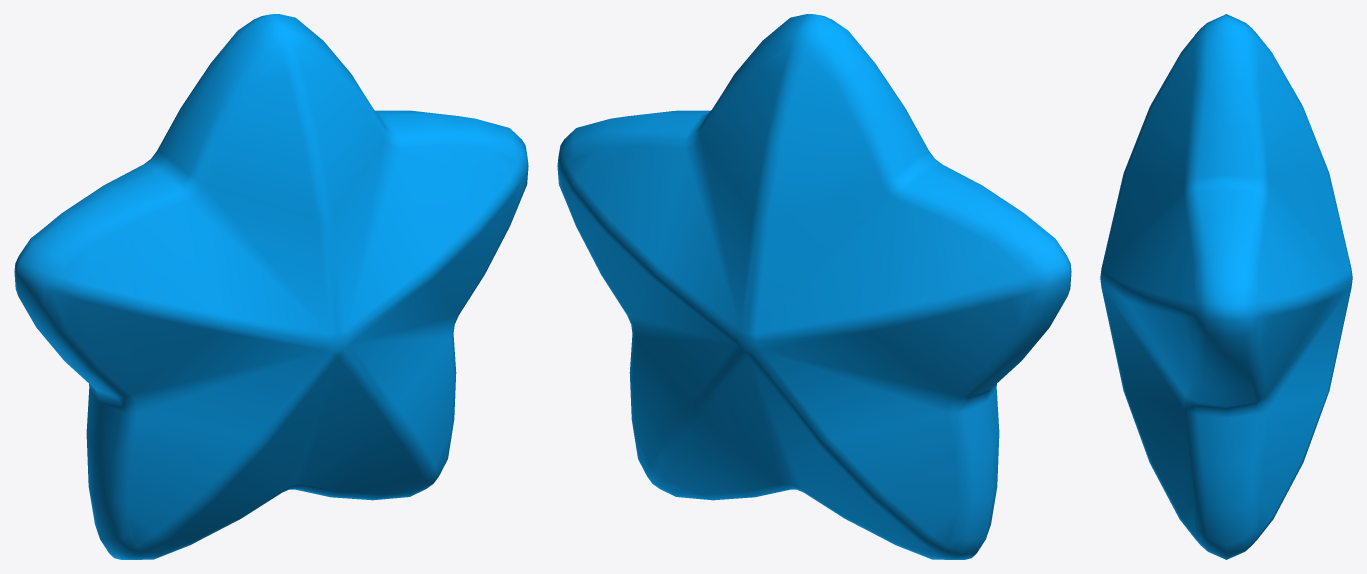
The picture shows the model from 3 angles, left to right: view 1: azimuth 30°, elevation 25°; view 2: azimuth 150°, elevation 25°; view 3: azimuth 270°, elevation 25°; orthographic projection. The views are drawn at different scales.
Parts seen in each view (by area): view 1: model_0.078; view 2: model_0.078; view 3: model_0.078.
Part boxes in pixels (x1,y1,x2,y2): model_0.078: (14,14,528,559); model_0.078: (557,14,1071,559); model_0.078: (1100,14,1352,559).
Size of the model in its own units: 3.93 by 3.78 by 1.81.
